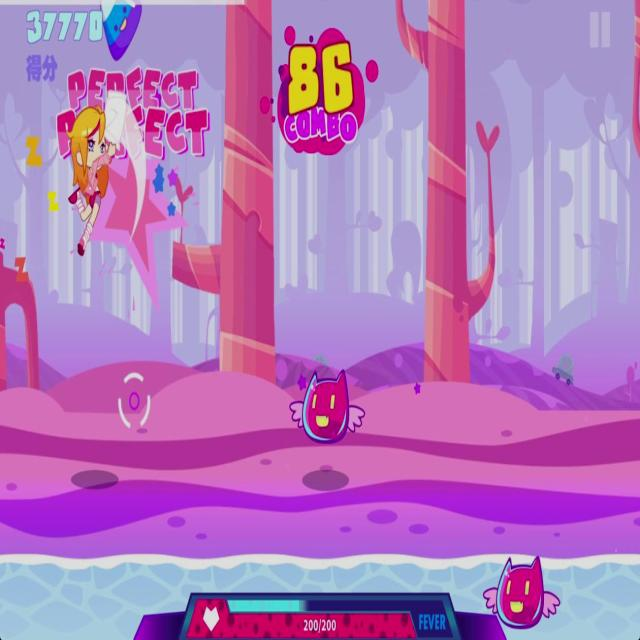jian: (99, 2, 142, 67)
mao: (289, 362, 366, 448), (484, 552, 561, 634)
